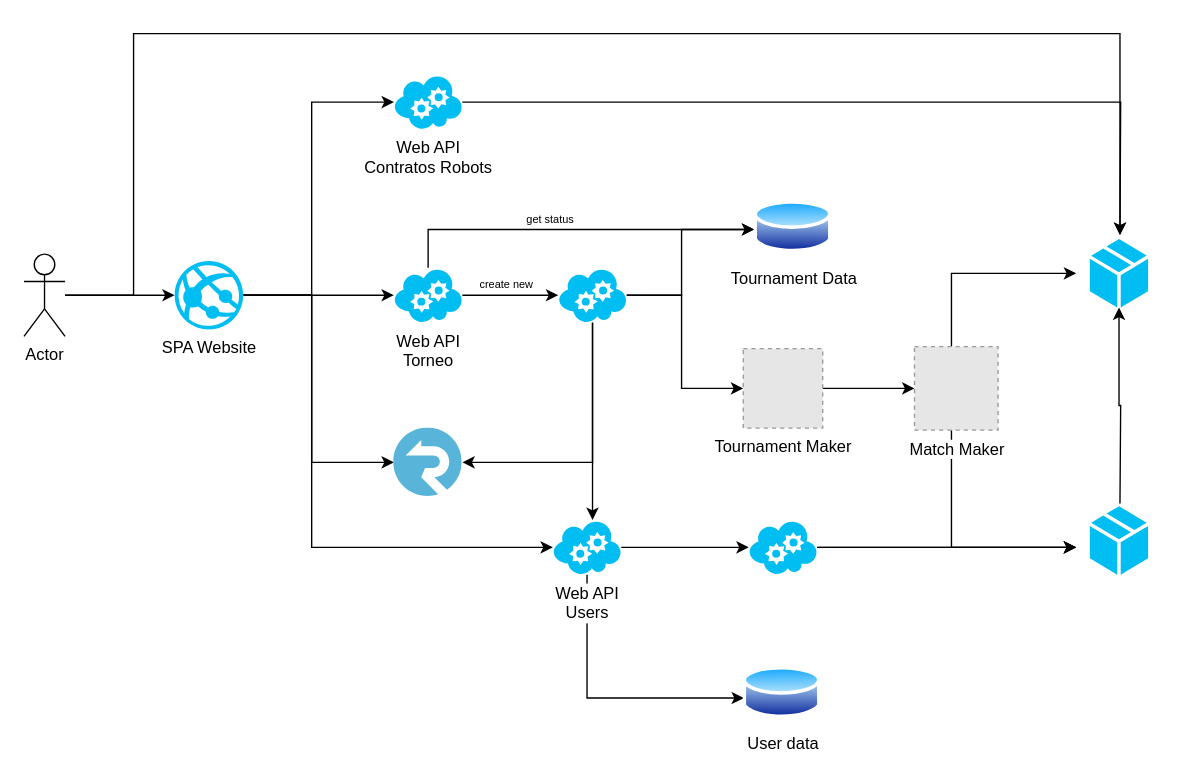
The diagram is 1197 pixels wide and 778 high, and some of its shapes have lost their labels. Grey dashed boxes stand in for pictures. Here are the shapes that lost their labels. From the top down, the centre of each, then its label:
At pixel 1118 272: "BOT Interfaces".
At pixel 592 294: "Async tournament service".
At pixel 427 461: "Status".
At pixel 782 546: "Web API Bot Validator".
At pixel 1118 540: "BOT Builder".
